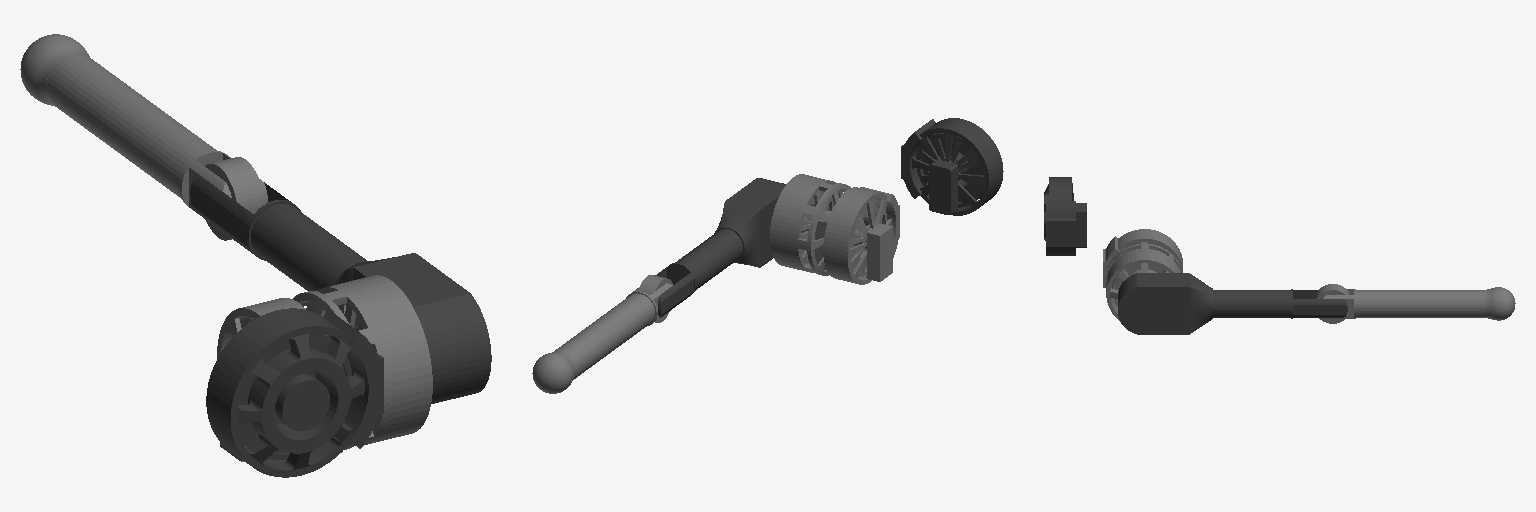
The robot description file, URDF, robot "RR":
<?xml version="1.0" ?>
<!-- =================================================================================== -->
<!-- |    This document was autogenerated by xacro from my_leg.xacro                   | -->
<!-- |    EDITING THIS FILE BY HAND IS NOT RECOMMENDED                                 | -->
<!-- =================================================================================== -->
<robot name="RR">
  <!-- Colors -->
  <material name="blue">
    <color rgba="0 0 0.8 1"/>
  </material>
  <material name="red">
    <color rgba="0.8 0 0 1"/>
  </material>
  <material name="grey">
    <color rgba="0.5 0.5 0.5 1"/>
  </material>
  <material name="DarkGrey">
    <color rgba="0.3 0.3 0.3 1"/>
  </material>
  <!-- Addin objects: -->
  <link name="world"/>
  <!-- Base Link  -->
  <link name="base_link">
    <visual>
      <geometry>
        <mesh filename="package://leg_description/meshes/Base.STL" scale=".001 .001 .001"/>
      </geometry>
      <origin rpy="0 0 0" xyz="0 0 0"/>
      <material name="DarkGrey"/>
    </visual>
    <collision>
      <geometry>
        <cylinder length="0.05708" radius="0.05555"/>
      </geometry>
      <origin rpy="0 0 0" xyz="0 0 0.00656"/>
    </collision>
    <inertial>
      <mass value="0.4759"/>
      <inertia ixx="0.000576572" ixy="1.091449e-05" ixz="-4.096e-06" iyy="0.000825053" iyz="-3.018e-06" izz="0.000391889"/>
      <origin rpy="0 0 0" xyz="-0.00083 -0.00061 0.01032"/>
    </inertial>
  </link>
  <joint name="world_joint" type="fixed">
    <parent link="world"/>
    <child link="base_link"/>
    <origin rpy="1.5707963267948966 -1.5707963267948966 0" xyz="0.05555 0 0.4"/>
  </joint>
  <!-- Link 1  -->
  <link name="link1">
    <visual>
      <geometry>
        <mesh filename="package://leg_description/meshes/link1.STL" scale=".001 .001 .001"/>
      </geometry>
      <origin rpy="0 0 0" xyz="0 0 0"/>
      <material name="grey"/>
    </visual>
    <collision>
      <geometry>
        <cylinder length="0.12457999999999998" radius="0.05555"/>
      </geometry>
      <origin rpy="1.5707963267948966 0 0" xyz="0  -0.027289999999999988 0"/>
    </collision>
    <inertial>
      <mass value="0.4759"/>
      <inertia ixx="0.000576572" ixy="1.091449e-05" ixz="-4.096e-06" iyy="0.000825053" iyz="-3.018e-06" izz="0.000391889"/>
      <origin rpy="0 0 0" xyz="-0.00083 -0.00061 0.01032"/>
    </inertial>
  </link>
  <joint name="base_to_link1" type="revolute">
    <parent link="base_link"/>
    <child link="link1"/>
    <axis rpy="0 0 0" xyz="0 0 1"/>
    <limit effort="7.051407999999999" lower="-1.5707963267948966" upper="1.5707963267948966" velocity="55.48571428571428"/>
    <origin rpy="0 0 0" xyz="0 0 -0.07763"/>
  </joint>
  <transmission name="base_link1_trans">
    <type>transmission_interface/SimpleTransmission</type>
    <actuator name="motor1">
      <mechanicalReduction>7</mechanicalReduction>
    </actuator>
    <joint name="base_to_link1">
      <hardwareInterface>hardware_interface/EffortJointInterface</hardwareInterface>
    </joint>
  </transmission>
  <!-- Link 2  -->
  <link name="link2">
    <visual>
      <geometry>
        <mesh filename="package://leg_description/meshes/link2.STL" scale=".001 .001 .001"/>
      </geometry>
      <origin rpy="0 0 0" xyz="0 0 0"/>
      <material name="DarkGrey"/>
    </visual>
    <collision name="link2_leg">
      <geometry>
        <cylinder length="0.2531" radius="0.0205"/>
      </geometry>
      <origin rpy="0 1.5707963267948966 0" xyz="0.12655 0 0"/>
    </collision>
    <collision name="link2_hip">
      <geometry>
        <box size="0.128 0.07 0.045"/>
      </geometry>
      <origin rpy="0 0 0" xyz="0.028 0 0"/>
    </collision>
    <inertial>
      <mass value="0.94987"/>
      <inertia ixx="0.001561735" ixy="-1.2537e-05" ixz="-0.000843757" iyy="0.005174717" iyz="-1.72e-05" izz="0.004776989"/>
      <origin rpy="0 0 0" xyz="0.03158 -0.00042 -0.02813"/>
    </inertial>
  </link>
  <joint name="link1_to_link2" type="continuous">
    <parent link="link1"/>
    <child link="link2"/>
    <axis rpy="0 0 0" xyz="0 0 1"/>
    <origin rpy="1.5707963267948966 1.5707963267948966 0" xyz="0 -0.11208  0"/>
    <limit effort="10.073439999999998" velocity="38.839999999999996"/>
  </joint>
  <transmission name="link1_link2_trans">
    <type>transmission_interface/SimpleTransmission</type>
    <actuator name="motor2">
      <mechanicalReduction>10</mechanicalReduction>
    </actuator>
    <joint name="link1_to_link2">
      <hardwareInterface>hardware_interface/EffortJointInterface</hardwareInterface>
    </joint>
  </transmission>
  <!-- Link 3  -->
  <link name="link3">
    <visual>
      <geometry>
        <mesh filename="package://leg_description/meshes/link3.STL" scale=".001 .001 .001"/>
      </geometry>
      <origin rpy="0 0 0" xyz="0 0 0"/>
      <material name="grey"/>
    </visual>
    <collision name="link3_leg">
      <geometry>
        <cylinder length="0.223" radius="0.0205"/>
      </geometry>
      <origin rpy="0 1.5707963267948966 0" xyz="0.1115 0 0"/>
    </collision>
    <collision name="link3_knee">
      <geometry>
        <cylinder length="0.041" radius="0.025"/>
      </geometry>
      <origin rpy="0 0 0" xyz="0 0 0"/>
    </collision>
    <collision name="link3_foot">
      <geometry>
        <sphere radius="0.0225"/>
      </geometry>
      <origin rpy="0 0 0" xyz="0.223 0 0"/>
    </collision>
    <inertial>
      <mass value="0.36814"/>
      <inertia ixx="8.8159e-05" ixy="0" ixz="0" iyy="0.003793802" iyz="0" izz="0.003804351"/>
      <origin rpy="0 0 0" xyz="0.10653 0 0"/>
    </inertial>
  </link>
  <joint name="link2_to_link3" type="revolute">
    <parent link="link2"/>
    <child link="link3"/>
    <axis rpy="0 0 0" xyz="0 0 1"/>
    <origin rpy="0 0 0" xyz="0.2531 0  0"/>
    <limit effort="10.073439999999998" lower="-2.229" upper="2.229" velocity="38.839999999999996"/>
  </joint>
  <transmission name="link2_link3_trans">
    <type>transmission_interface/SimpleTransmission</type>
    <actuator name="motor3">
      <mechanicalReduction>10</mechanicalReduction>
    </actuator>
    <joint name="link2_to_link3">
      <hardwareInterface>hardware_interface/EffortJointInterface</hardwareInterface>
    </joint>
  </transmission>
  <!-- Gazebo references -->
  <gazebo reference="base_link">
    <material> Gazebo/Blue </material>
    <kinematic> true </kinematic>
  </gazebo>
  <!-- Gazebo -->
  <gazebo>
    <plugin filename="libgazebo_ros_control.so" name="gazebo_ros_control">
      <robotNamespace>/leg</robotNamespace>
    </plugin>
  </gazebo>
</robot>

--- What the picture shows (computed from the rendered views, not written in the file) ---
Views: 3 orthographic renders of the robot side by side, from view 1: azimuth 30°, elevation 25°; view 2: azimuth 150°, elevation 25°; view 3: azimuth 270°, elevation 25°.
Robot: RR — 5 links, 4 joints (2 revolute, 1 continuous, 1 fixed); root link world; default pose: all joints at 0.
Links seen in each view (by area): view 1: base_link, link2, link3, link1; view 2: link1, base_link, link2, link3; view 3: link2, link3, link1, base_link.
Boxes of the visible links, x1,y1,x2,y2 form: base_link: (206, 308, 383, 477); link2: (190, 176, 491, 403); link3: (20, 34, 267, 240); link1: (217, 275, 432, 461); link1: (770, 174, 899, 284); base_link: (901, 118, 1003, 215); link2: (655, 178, 785, 317); link3: (532, 275, 672, 393); link2: (1118, 273, 1347, 334); link3: (1315, 284, 1515, 323); link1: (1103, 229, 1182, 320); base_link: (1044, 177, 1086, 255).
Size in the robot's own frame: 0.2437 by 0.6333 by 0.1546 metres.
4 mesh visuals loaded from 4 distinct referenced files (4 binary STL).